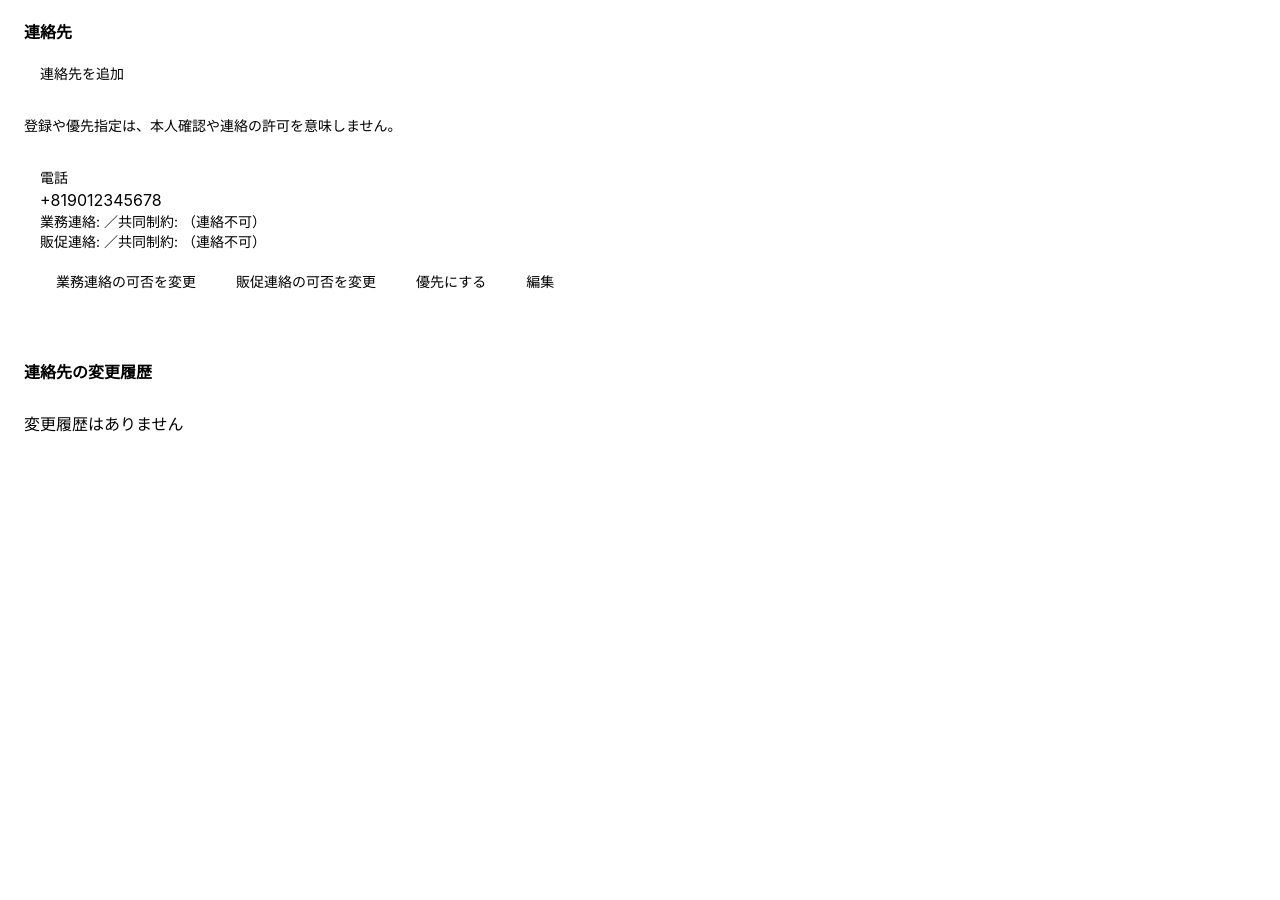
Test: 編集中の連絡先が消えたら保存を外し、閉じて一覧を再取得する
This screenshot has width=1280, height=900.
Click the button "編集".
click(540, 282)  # box [510, 264, 570, 300]
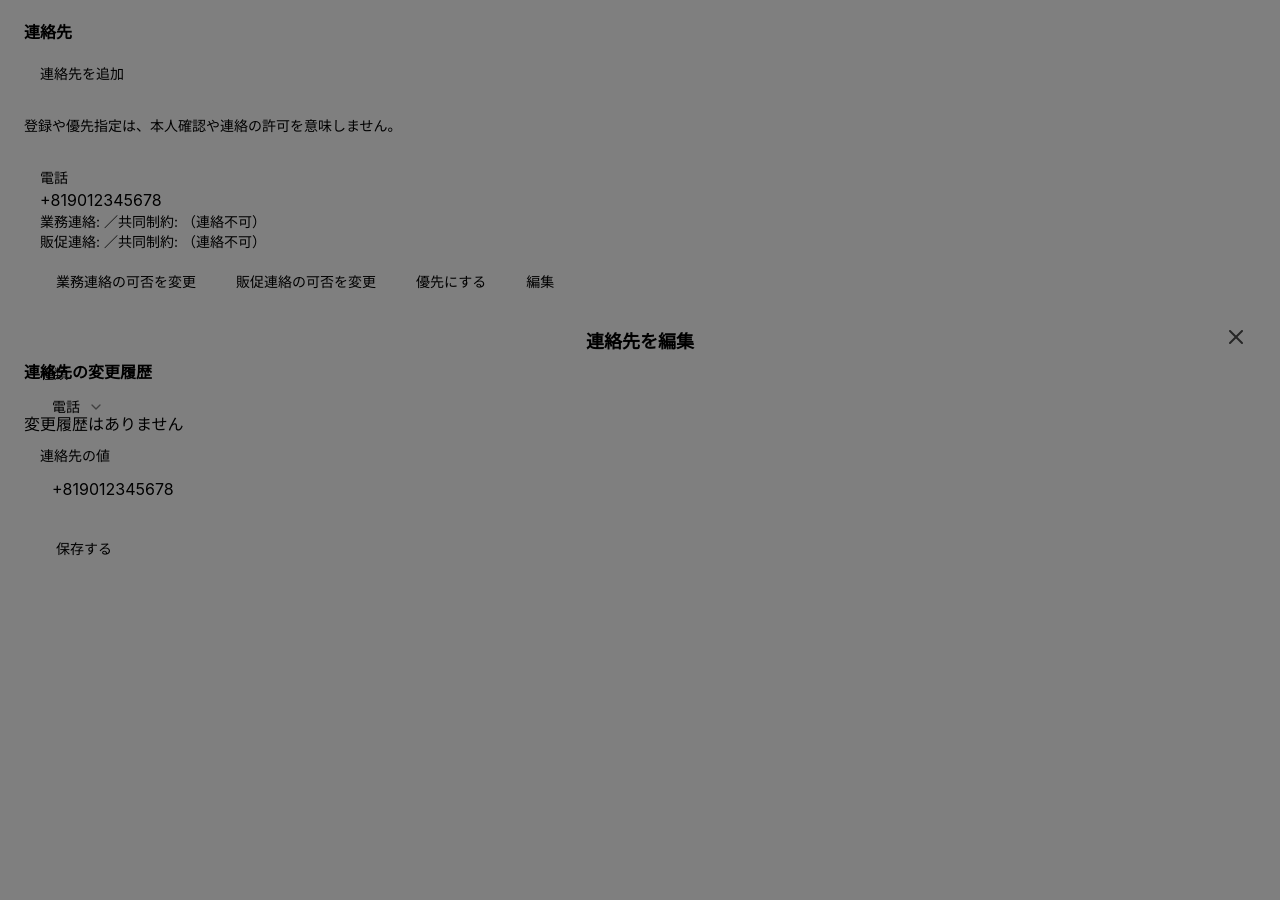
Click the button "保存する".
click(84, 549)  # box [40, 531, 128, 567]
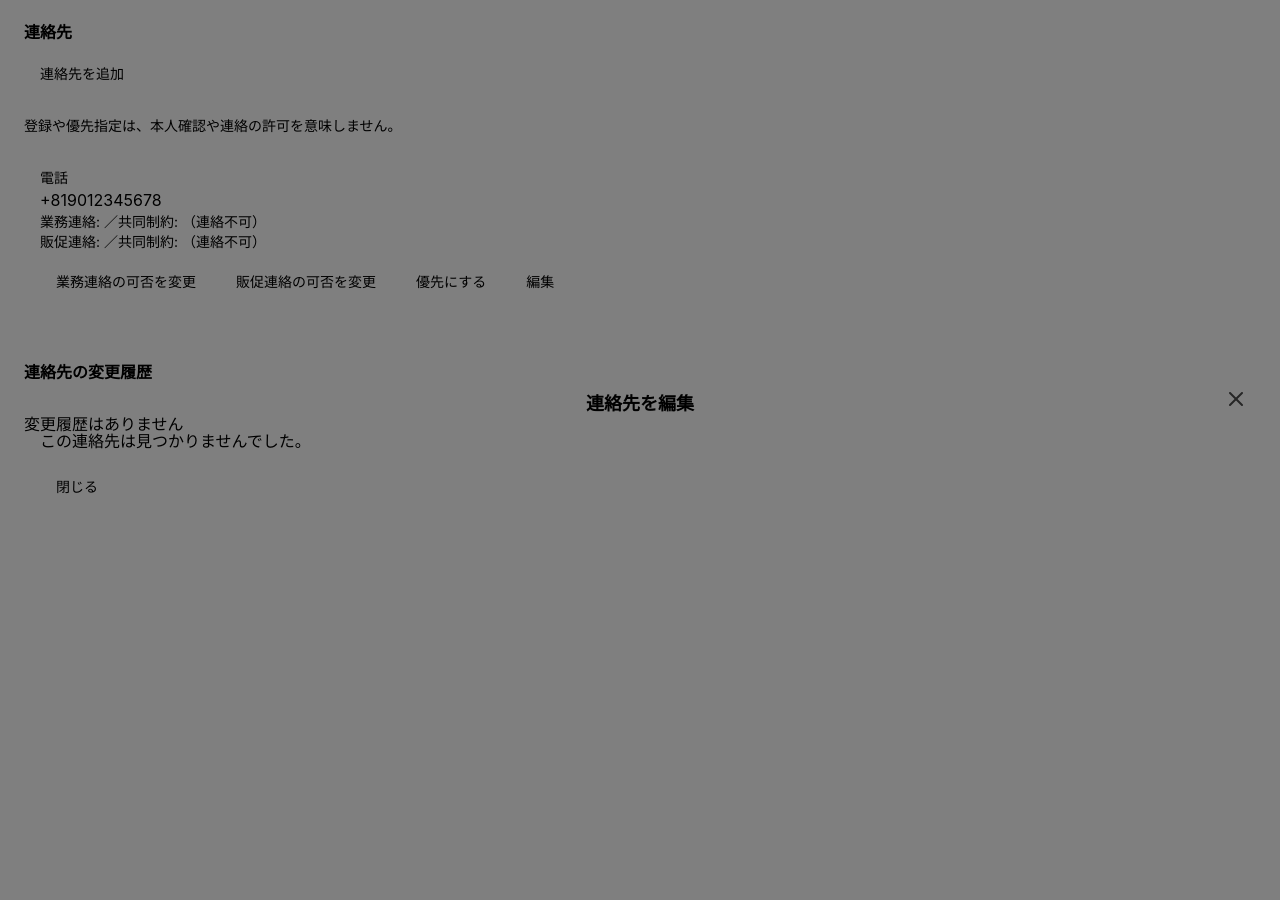
Check: the text "この連絡先は見つかりませんでした。" is shown, box [40, 431, 311, 451]
Check: the button "保存する" is gone
Click the button "閉じる".
click(77, 487)  # box [40, 469, 114, 505]
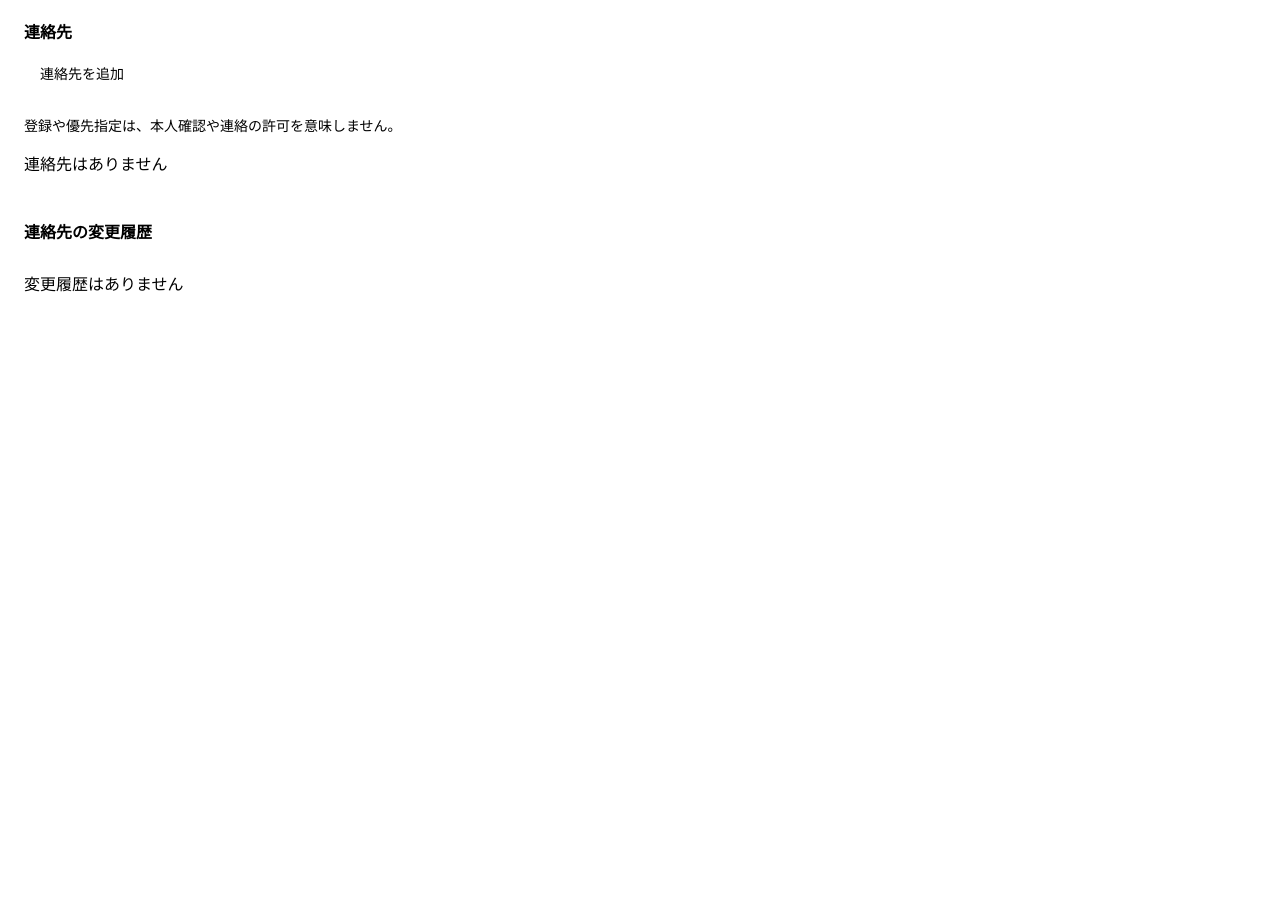
Check: the text "連絡先はありません" is shown, box [24, 154, 168, 174]
